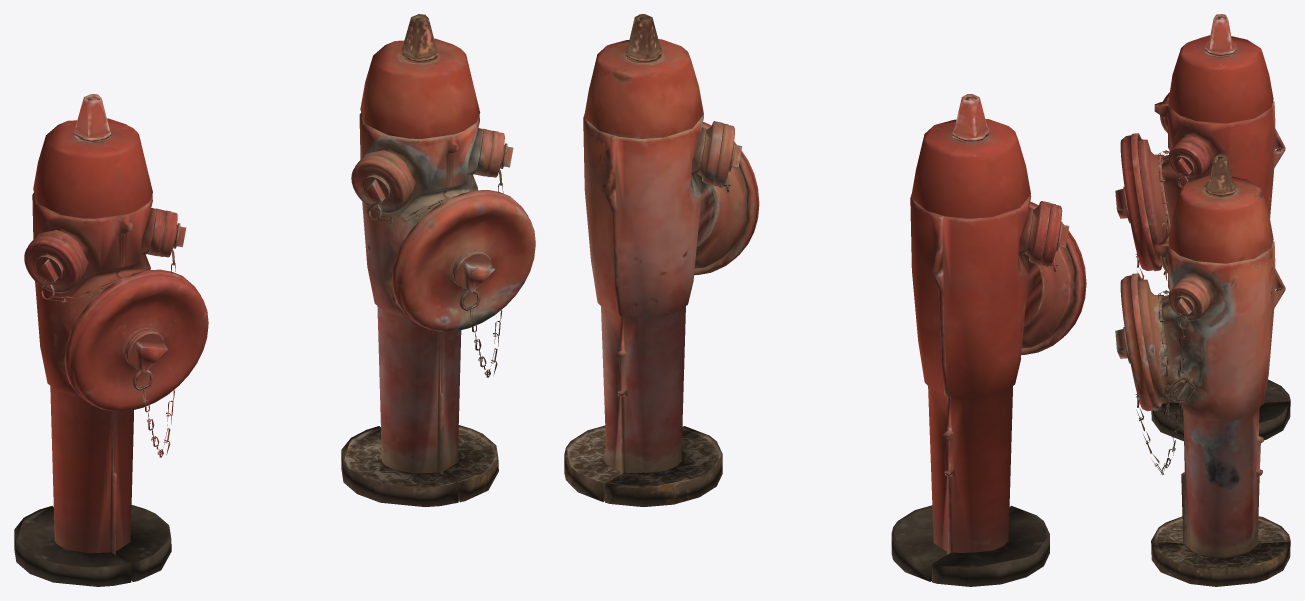
Rendered from fire_hydrant.gltf.
The picture shows the model from 3 angles, left to right: view 1: azimuth 30°, elevation 25°; view 2: azimuth 150°, elevation 25°; view 3: azimuth 270°, elevation 25°; orthographic projection. The views are drawn at different scales.
Visible parts, largest first — view 1: fire_hydrant_aged, fire_hydrant, fire_hydrant_cap_01_aged, fire_hydrant_cap_01, fire_hydrant_cap_03_aged, fire_hydrant_cap_03, fire_hydrant_chain_aged, fire_hydrant_chain, fire_hydrant_cap_02, fire_hydrant_cap_02_aged; view 2: fire_hydrant, fire_hydrant_aged, fire_hydrant_cap_01, fire_hydrant_cap_01_aged, fire_hydrant_cap_03_aged, fire_hydrant_cap_03; view 3: fire_hydrant_aged, fire_hydrant, fire_hydrant_cap_01, fire_hydrant_cap_01_aged, fire_hydrant_chain_aged, fire_hydrant_cap_02_aged, fire_hydrant_cap_02, fire_hydrant_chain.
Boxes of the visible parts, <box> form: fire_hydrant_aged: <box>341,14,498,506</box>; fire_hydrant: <box>14,94,171,586</box>; fire_hydrant_cap_01_aged: <box>391,190,535,331</box>; fire_hydrant_cap_01: <box>64,269,208,411</box>; fire_hydrant_cap_03_aged: <box>351,155,410,213</box>; fire_hydrant_cap_03: <box>24,235,83,293</box>; fire_hydrant_chain_aged: <box>367,145,504,377</box>; fire_hydrant_chain: <box>40,224,177,457</box>; fire_hydrant_cap_02: <box>157,210,186,257</box>; fire_hydrant_cap_02_aged: <box>485,130,513,177</box>; fire_hydrant: <box>891,94,1074,586</box>; fire_hydrant_aged: <box>564,14,747,506</box>; fire_hydrant_cap_01: <box>1021,201,1086,354</box>; fire_hydrant_cap_01_aged: <box>694,122,759,275</box>; fire_hydrant_cap_03_aged: <box>711,123,741,186</box>; fire_hydrant_cap_03: <box>1038,203,1069,266</box>; fire_hydrant_aged: <box>1138,154,1290,586</box>; fire_hydrant: <box>1138,14,1290,441</box>; fire_hydrant_cap_01: <box>1115,133,1161,271</box>; fire_hydrant_cap_01_aged: <box>1115,273,1161,411</box>; fire_hydrant_chain_aged: <box>1135,290,1195,474</box>; fire_hydrant_cap_02_aged: <box>1168,281,1208,320</box>; fire_hydrant_cap_02: <box>1168,141,1208,180</box>; fire_hydrant_chain: <box>1135,150,1193,280</box>.
Size of the model in its own units: 0.8746 by 0.7992 by 0.3173.
2 materials, 2 textured.
